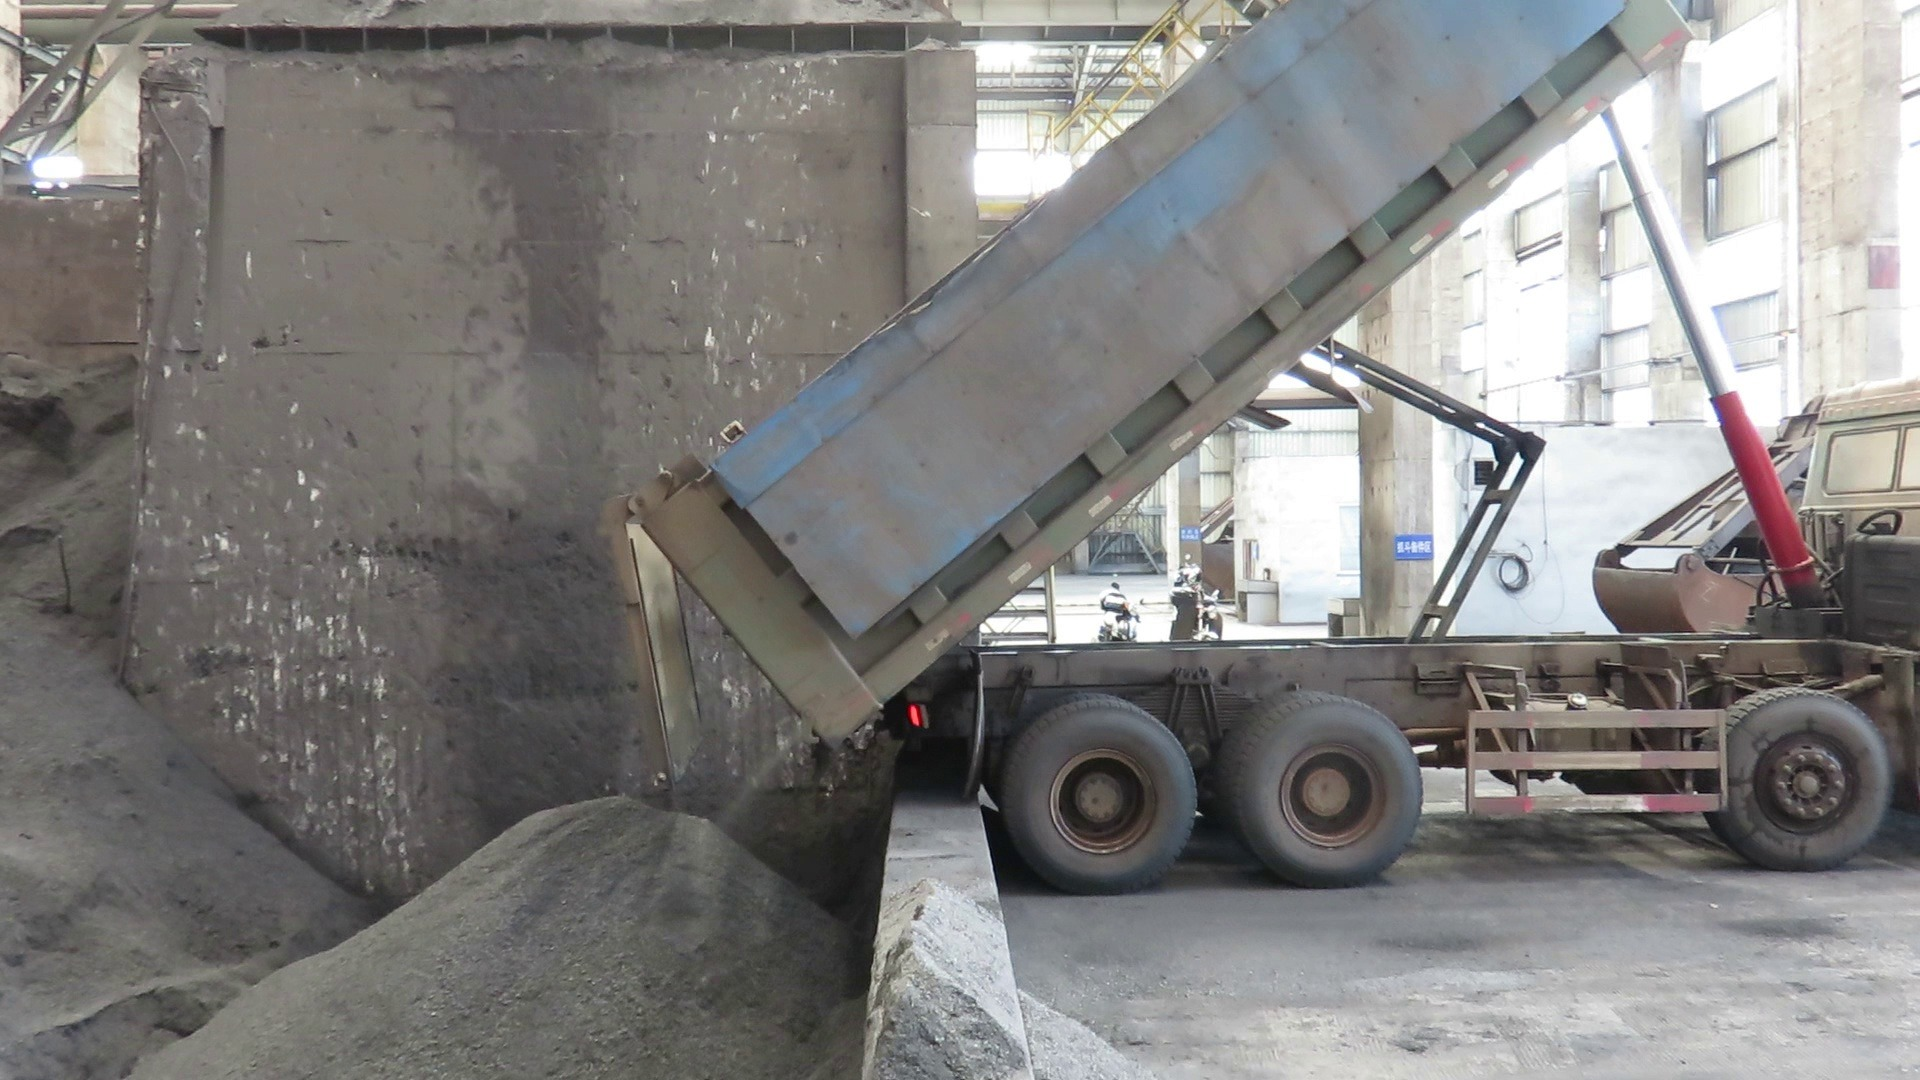truck: (600, 0, 1920, 913)
